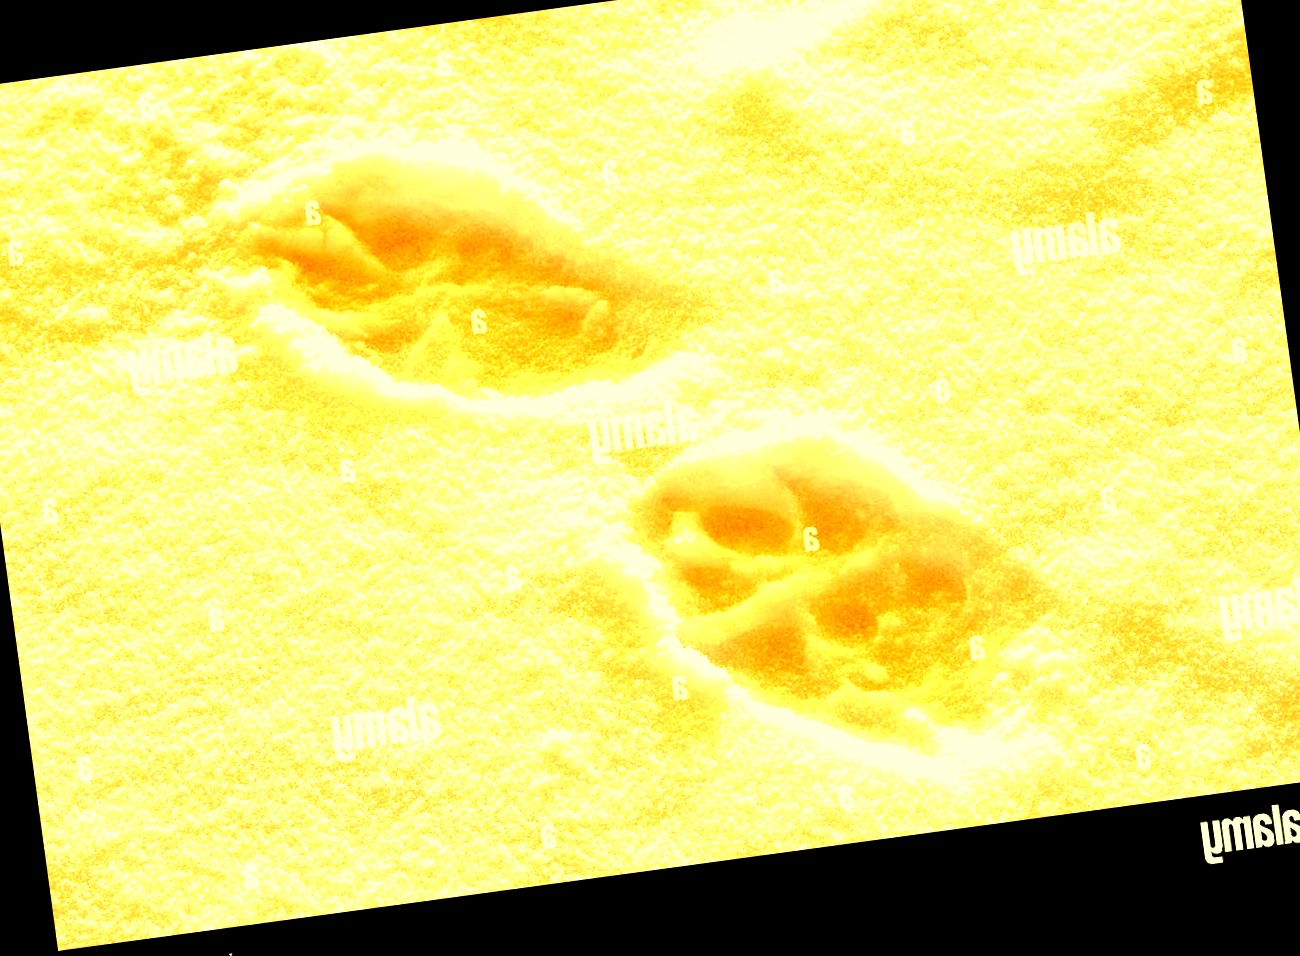loup: (587, 346, 1140, 802)
